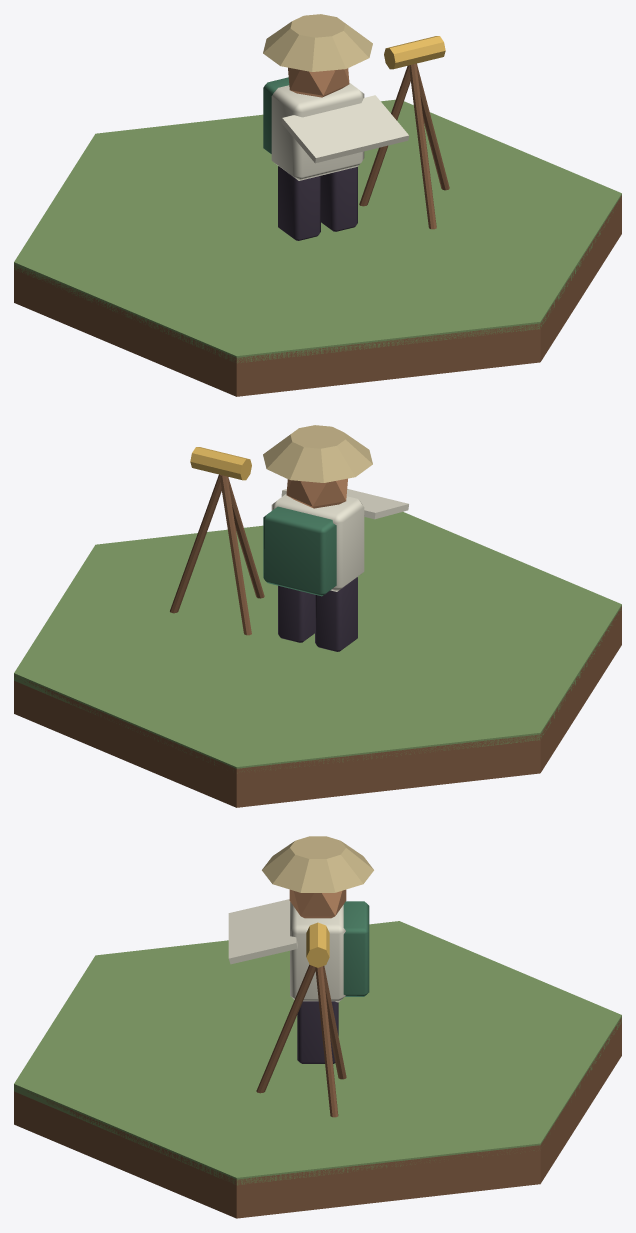
File: surveyor.glb
3 renders of one model, top to bottom at view 1: azimuth 30°, elevation 25°; view 2: azimuth 150°, elevation 25°; view 3: azimuth 270°, elevation 25°, orthographic.
Parts seen in each view (by area): view 1: Cone.250, Cone.249, Cube.070, Cone.251, Cube.068, Cube.066, Cube.067, Icosphere.154, Cone.252, Cone.255, Cone.254, Cone.253 (+1 smaller); view 2: Cone.250, Cone.249, Cube.069, Cone.251, Cube.068, Cube.066, Cube.067, Icosphere.154, Cone.254, Cone.255, Cone.253, Cube.070 (+1 smaller); view 3: Cone.250, Cone.249, Cone.251, Cube.070, Cube.068, Cube.069, Cube.067, Icosphere.154, Cone.253, Cone.252, Cone.255, Cone.254.
Boxes of the visible parts, left/top/right/bottom form: Cone.250: left=14, top=99, right=621, bottom=363; Cone.249: left=14, top=195, right=621, bottom=396; Cube.070: left=281, top=95, right=408, bottom=163; Cone.251: left=263, top=14, right=372, bottom=71; Cube.068: left=271, top=83, right=364, bottom=180; Cube.066: left=278, top=166, right=320, bottom=240; Cube.067: left=321, top=166, right=357, bottom=231; Icosphere.154: left=288, top=67, right=349, bottom=97; Cone.252: left=409, top=63, right=436, bottom=229; Cone.255: left=384, top=36, right=445, bottom=69; Cone.254: left=359, top=65, right=410, bottom=206; Cone.253: left=416, top=64, right=449, bottom=190; Cone.250: left=14, top=512, right=621, bottom=773; Cone.249: left=14, top=606, right=621, bottom=807; Cube.069: left=263, top=506, right=336, bottom=596; Cone.251: left=263, top=425, right=372, bottom=482; Cube.068: left=271, top=494, right=364, bottom=591; Cube.066: left=315, top=577, right=357, bottom=651; Cube.067: left=278, top=585, right=314, bottom=642; Icosphere.154: left=286, top=478, right=347, bottom=508; Cone.254: left=220, top=475, right=251, bottom=635; Cone.255: left=190, top=447, right=251, bottom=480; Cone.253: left=170, top=474, right=221, bottom=613; Cube.070: left=281, top=489, right=408, bottom=519; Cone.250: left=14, top=921, right=621, bottom=1185; Cone.249: left=14, top=1017, right=621, bottom=1218; Cone.251: left=262, top=836, right=373, bottom=892; Cube.070: left=228, top=899, right=297, bottom=964; Cube.068: left=290, top=902, right=345, bottom=1002; Cube.069: left=343, top=901, right=369, bottom=996; Cube.067: left=297, top=1001, right=338, bottom=1063; Icosphere.154: left=289, top=889, right=346, bottom=918; Cone.253: left=315, top=966, right=338, bottom=1117; Cone.252: left=256, top=964, right=315, bottom=1093; Cone.255: left=306, top=922, right=329, bottom=967; Cone.254: left=323, top=966, right=346, bottom=1079.
Bounding box in the file's own units: 3.67 × 1.61 × 3.67.
